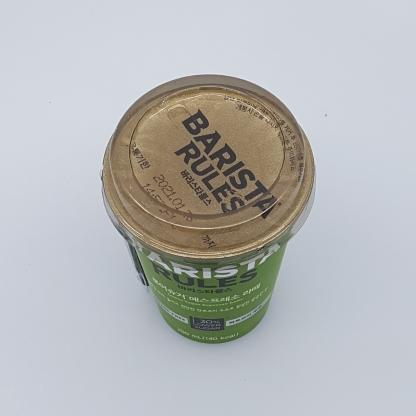-------------------: (100, 74, 317, 344)
